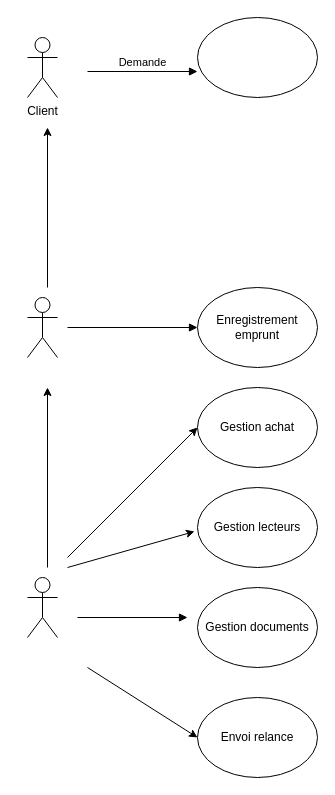
Some shapes in this 335 by 795 pixel diagram are drawn without their labels. Here are the shapes that lost their labels. From the top down, the centre of each, then its label:
the point at 257,57: Liste documents
the point at 42,327: Bénévole
the point at 42,607: Employé
